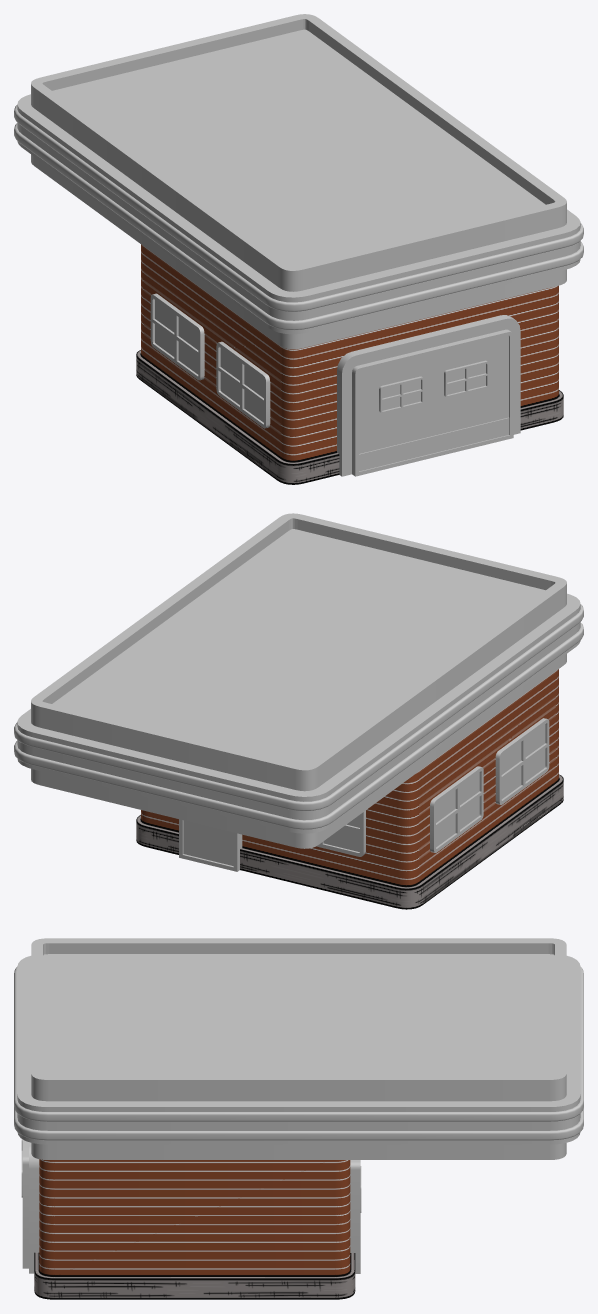
File: Garage1.FBX
3 views of the same model, one above another, from view 1: azimuth 30°, elevation 25°; view 2: azimuth 150°, elevation 25°; view 3: azimuth 270°, elevation 25° (orthographic). The views are drawn at different scales.
Visible parts, largest first — view 1: Roof002, Plane004, gARAGE dOOR001, Window003, Window004, Window006, Window007; view 2: Roof002, Plane004, Window004, Window003, Door001, Window001; view 3: Roof002, Plane004, gARAGE dOOR001, Door001.
Boxes of the visible parts, bbox=[...] form: Roof002: bbox=[14, 14, 583, 349]; Plane004: bbox=[136, 244, 563, 484]; gARAGE dOOR001: bbox=[337, 315, 520, 476]; Window003: bbox=[150, 293, 204, 380]; Window004: bbox=[216, 341, 270, 428]; Window006: bbox=[444, 360, 488, 397]; Window007: bbox=[379, 376, 423, 413]; Roof002: bbox=[14, 513, 583, 848]; Plane004: bbox=[136, 669, 563, 909]; Window004: bbox=[495, 718, 549, 804]; Window003: bbox=[430, 766, 483, 852]; Door001: bbox=[179, 819, 242, 871]; Window001: bbox=[316, 810, 365, 856]; Roof002: bbox=[14, 938, 583, 1159]; Plane004: bbox=[34, 1159, 355, 1299]; gARAGE dOOR001: bbox=[22, 1139, 39, 1273]; Door001: bbox=[350, 1160, 360, 1273].
Size of the model in its own units: 608 by 400 by 938.
